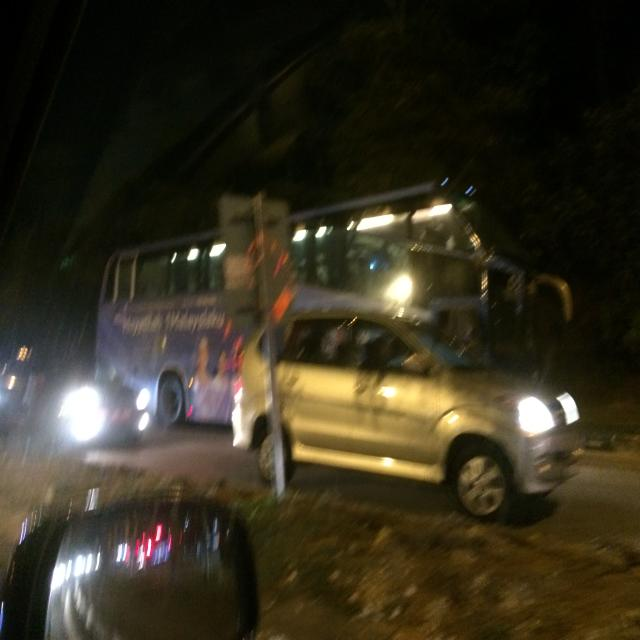Bus: (79, 220, 612, 428)
car: (216, 300, 633, 533), (8, 426, 274, 640)
